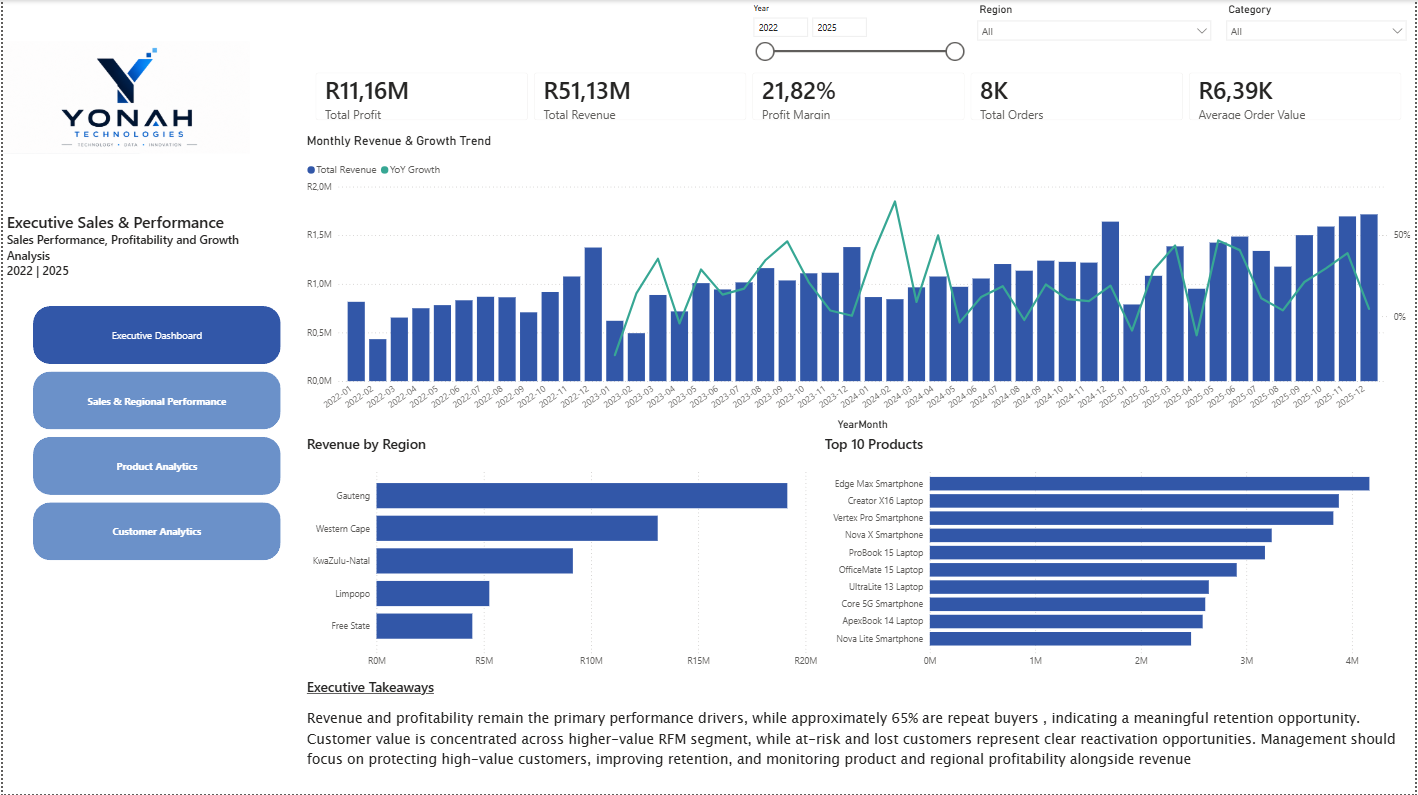

What the dashboard file says about the page in this screenshot:
{"tool":"powerbi","page":{"name":"Executive Dashboard","canvas":[1920,1080],"ordinal":1},"visuals":[{"type":"image","box":[0,0,336,265.2],"z":0},{"type":"cardVisual","fields":{"Data":["_Yonah Measures.Total Profit","_Yonah Measures.Total Revenue","_Yonah Measures.Profit Margin","_Yonah Measures.Total Orders","_Yonah Measures.Average Order Value"]},"box":[408.1,81.6,1512.5,99.3],"z":1000},{"type":"lineClusteredColumnComboChart","title":"Monthly Revenue & Growth Trend","fields":{"Category":["dim Date.YearMonth"],"Y2":["_Yonah Measures.YoY Growth"],"Y":["_Yonah Measures.Total Revenue"]},"box":[408.5,181.1,1511.5,409.9],"z":2000},{"type":"clusteredBarChart","title":"Revenue by Region","fields":{"Category":["dim Customer.Region"],"Y":["_Yonah Measures.Total Revenue"]},"box":[408.1,590.3,704.6,326.4],"z":3000},{"type":"clusteredBarChart","title":"Top 10 Products","fields":{"Category":["gold ProductPerformance.Product_Name"],"Y":["Sum(gold ProductPerformance.Revenue)"]},"box":[1112.6,590.3,808,326.4],"z":4000},{"type":"slicer","fields":{"Values":["dim Date.Year"]},"box":[1008.1,0,307.8,94.8],"z":5000},{"type":"slicer","fields":{"Values":["dim Customer.Region"]},"box":[1316,0,338,76.8],"z":6000},{"type":"slicer","fields":{"Values":["dim Product.Category"]},"box":[1654.5,0,265.3,88.9],"z":7000},{"type":"textbox","box":[0,265.2,378.1,149.6],"z":8000},{"type":"pageNavigator","box":[40.9,415.8,337,348.7],"z":9000},{"type":"textbox","box":[408.1,916.8,1511.2,163.2],"z":10000}]}

Visuals, with their boxes in screenshot pixels (x1, y1, x2, y2), scaled from the page's 1920x1080 canvas onto the 1418x795 screenshot:
image: bbox(0, 0, 248, 195)
cardVisual - _Yonah Measures.Total Profit x _Yonah Measures.Total Revenue: bbox(301, 60, 1417, 133)
"Monthly Revenue & Growth Trend" lineClusteredColumnComboChart: bbox(302, 133, 1417, 435)
"Revenue by Region" clusteredBarChart: bbox(301, 435, 822, 675)
"Top 10 Products" clusteredBarChart: bbox(822, 435, 1417, 675)
slicer - dim Date.Year: bbox(745, 0, 972, 70)
slicer - dim Customer.Region: bbox(972, 0, 1222, 57)
slicer - dim Product.Category: bbox(1222, 0, 1417, 65)
textbox: bbox(0, 195, 279, 305)
pageNavigator: bbox(30, 306, 279, 563)
textbox: bbox(301, 675, 1417, 794)
